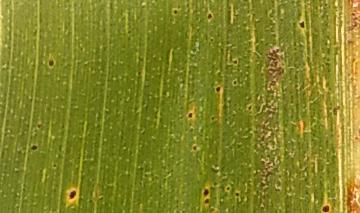tarspot: (66, 188, 78, 202), (318, 202, 333, 213), (199, 185, 213, 196), (296, 19, 308, 30), (45, 56, 55, 69), (184, 109, 195, 120), (34, 121, 45, 132), (27, 143, 42, 151), (204, 10, 214, 22), (229, 77, 241, 87), (232, 189, 243, 199), (229, 56, 240, 66), (244, 102, 255, 112), (201, 197, 213, 206), (170, 6, 180, 16), (208, 114, 220, 121), (213, 83, 222, 92), (223, 183, 232, 192), (191, 144, 199, 152)
